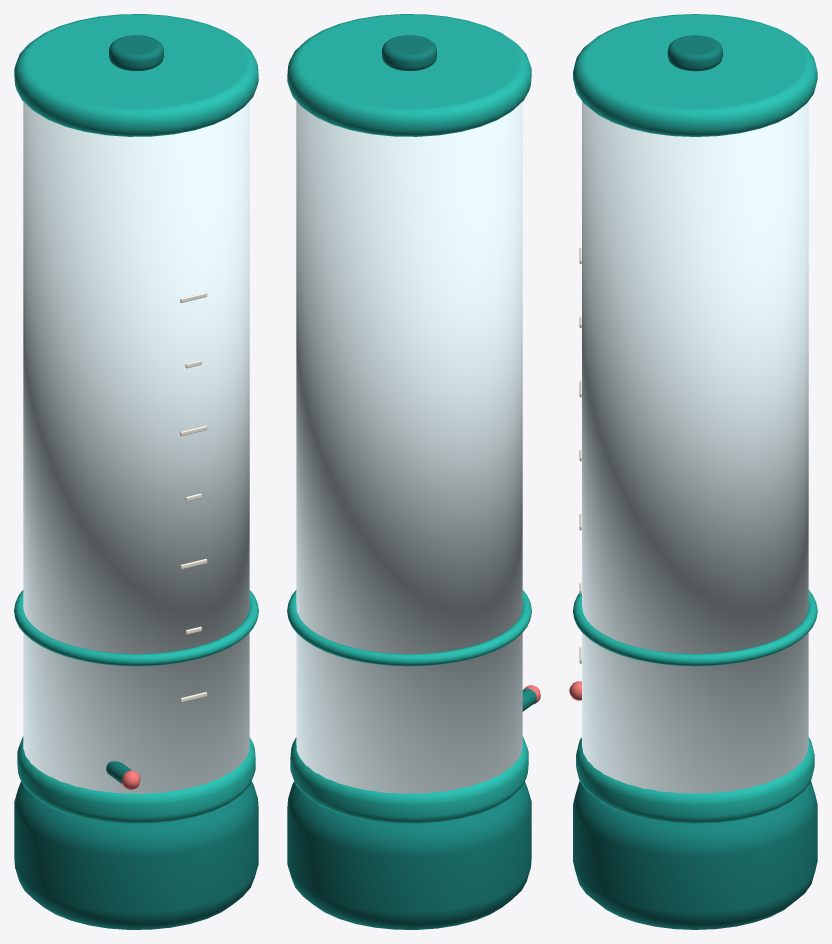
File: Buffer.fbx
3 renders of one model, left to right at view 1: azimuth 30°, elevation 25°; view 2: azimuth 150°, elevation 25°; view 3: azimuth 270°, elevation 25°, orthographic.
Parts seen in each view (by area): view 1: Buffer mesh; view 2: Buffer mesh; view 3: Buffer mesh.
Part boxes in pixels (x1,y1,x2,y2): Buffer mesh: (14,14,258,929); Buffer mesh: (287,14,540,929); Buffer mesh: (569,14,817,929).
Bounding box in the file's own units: 0.4 × 1.52 × 0.406.
